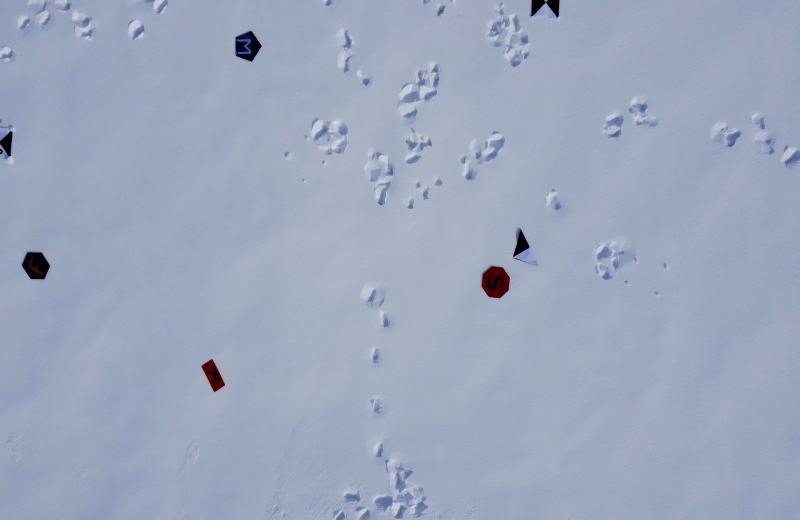Hexagon: (20, 252, 52, 281)
Octagon: (480, 263, 512, 301)
Pentagon: (234, 29, 265, 64)
Rectangle: (202, 358, 223, 392)
